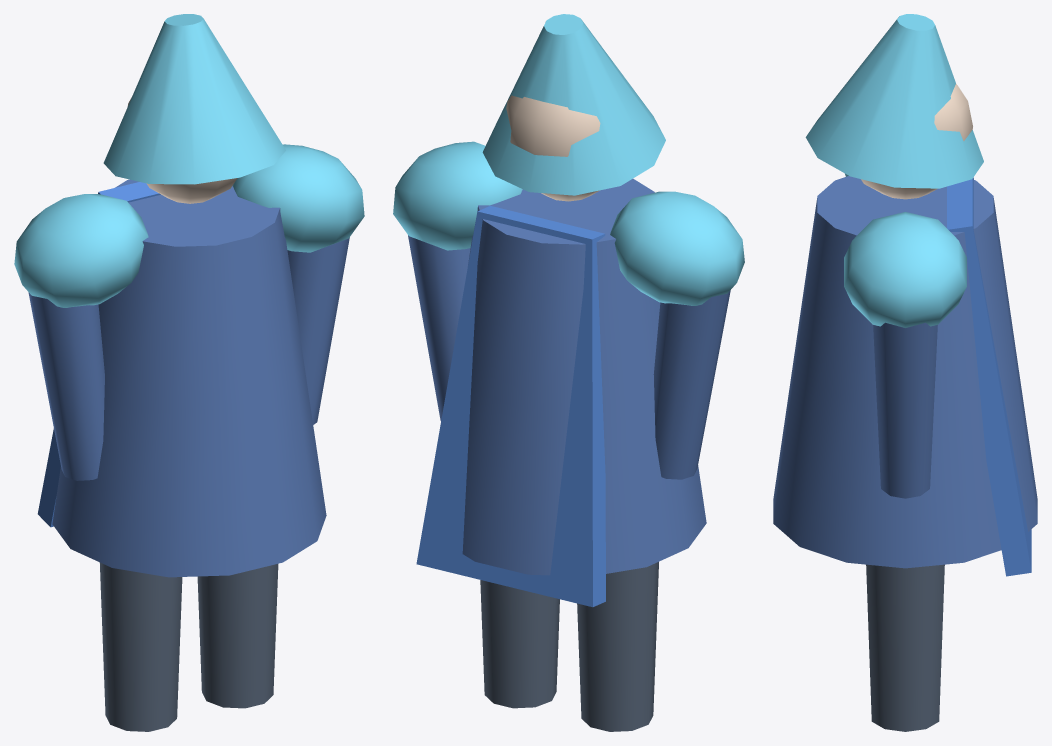
Rendered from hero_dw.glb.
The picture shows the model from 3 angles, left to right: view 1: azimuth 30°, elevation 25°; view 2: azimuth 150°, elevation 25°; view 3: azimuth 270°, elevation 25°; orthographic projection.
Parts seen in each view (by area): view 1: armor_torso, greaves, pauldrons, hood, arms, cloak, head; view 2: armor_torso, cloak, pauldrons, greaves, hood, arms, head; view 3: armor_torso, hood, greaves, pauldrons, arms, cloak, head.
Part boxes in pixels (x1,y1,x2,y2): armor_torso: [52, 179, 326, 577]; greaves: [99, 562, 278, 731]; pauldrons: [14, 144, 364, 307]; hood: [103, 14, 285, 184]; arms: [28, 237, 349, 480]; cloak: [37, 182, 160, 527]; head: [127, 97, 237, 203]; armor_torso: [462, 178, 706, 575]; cloak: [416, 206, 605, 607]; pauldrons: [393, 141, 744, 305]; greaves: [480, 562, 658, 731]; hood: [482, 14, 665, 195]; arms: [408, 235, 730, 479]; head: [506, 95, 600, 201]; armor_torso: [773, 176, 1037, 568]; hood: [805, 14, 983, 188]; greaves: [866, 564, 944, 731]; pauldrons: [844, 173, 966, 327]; arms: [873, 322, 937, 498]; cloak: [947, 177, 1031, 576]; head: [861, 83, 972, 199].
Bounding box in the file's own units: 1.18 × 2.31 × 0.8189.
